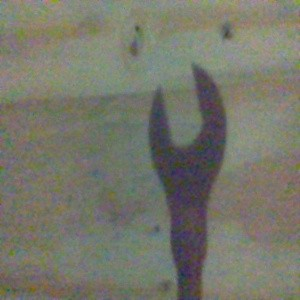spanner: (147, 60, 229, 300)
